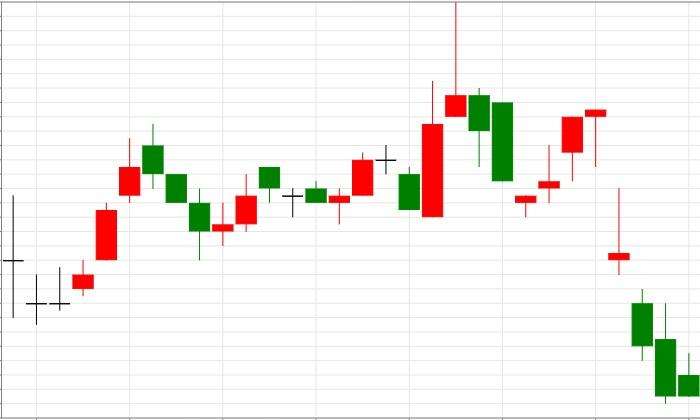three_black_crows_fall: (26, 123, 210, 326)
